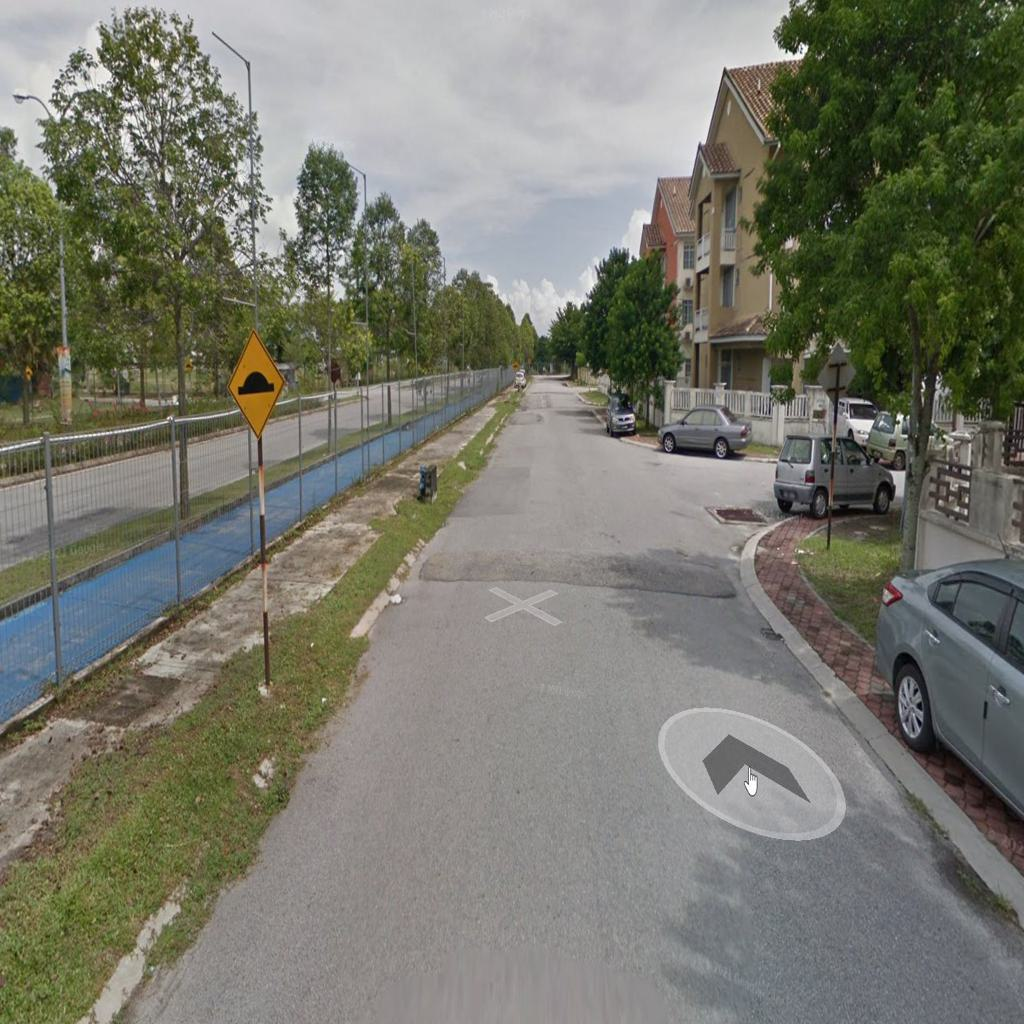Junction: (612, 421, 894, 583)
